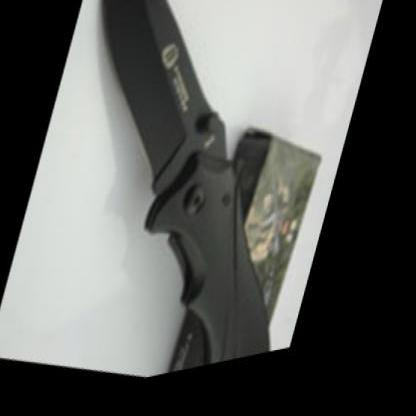knife: (37, 0, 280, 249)
